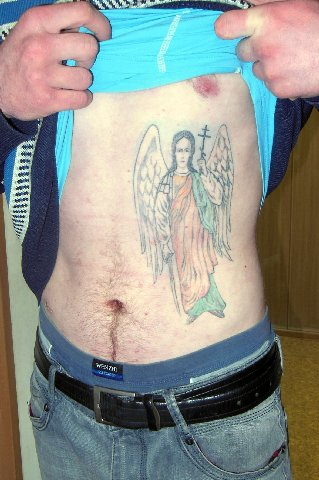tatu1_angel: (129, 114, 256, 314)
